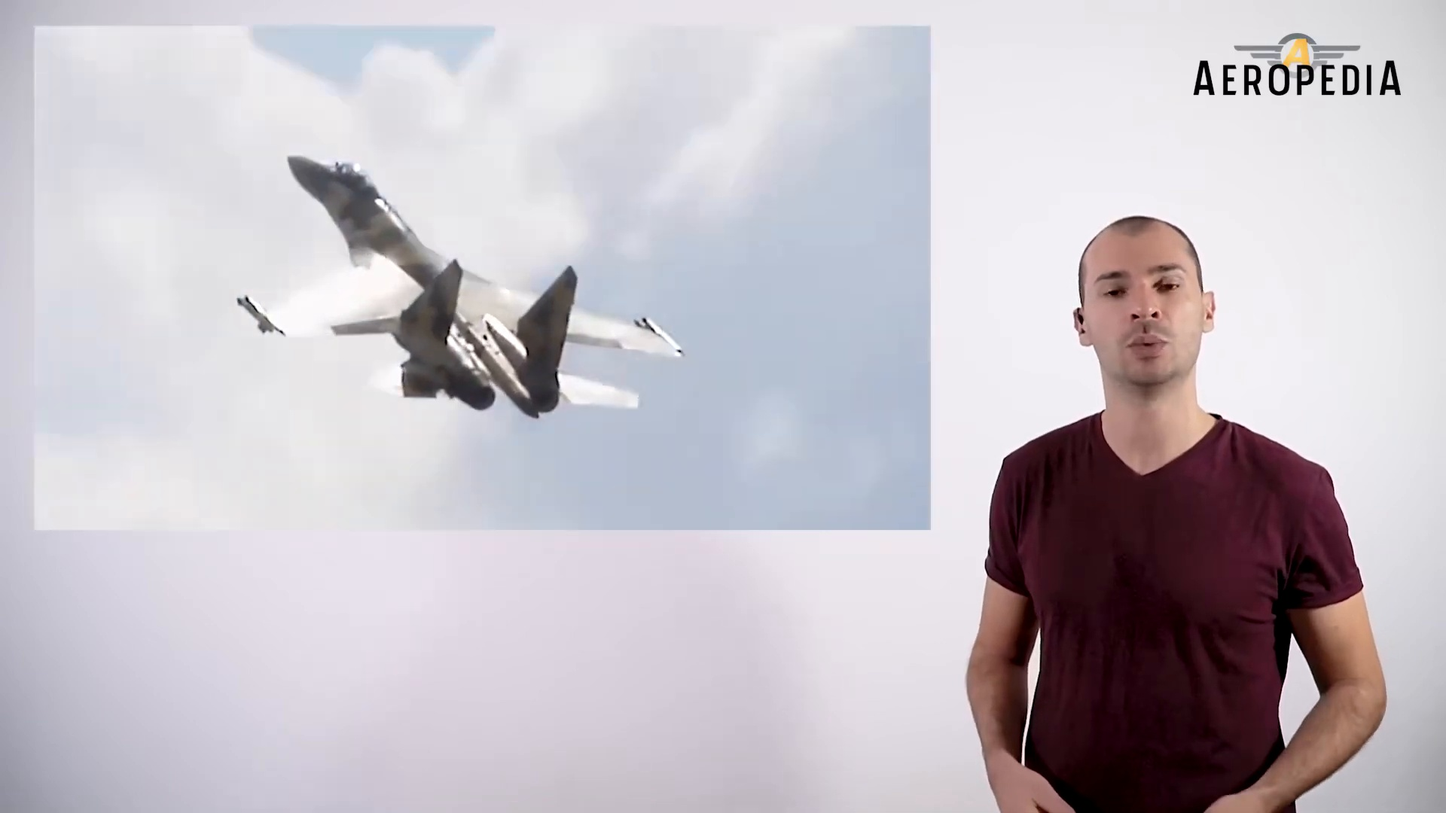Su35: (235, 157, 686, 420)
